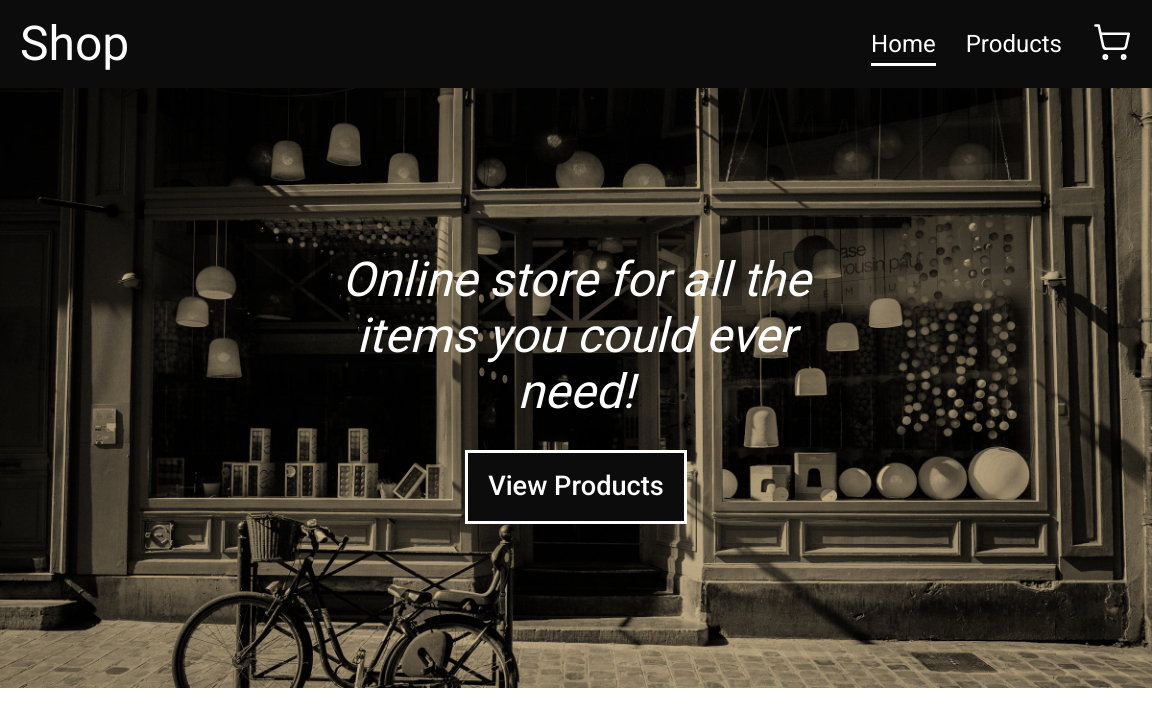
Test case: Header Component › Switches route to /cart when clicking Cart link
The width and height of the screenshot is (1152, 720).
Click the link with test id "cart-icon": {"x": 1112, "y": 56} x1=1092 y1=40 x2=1132 y2=73
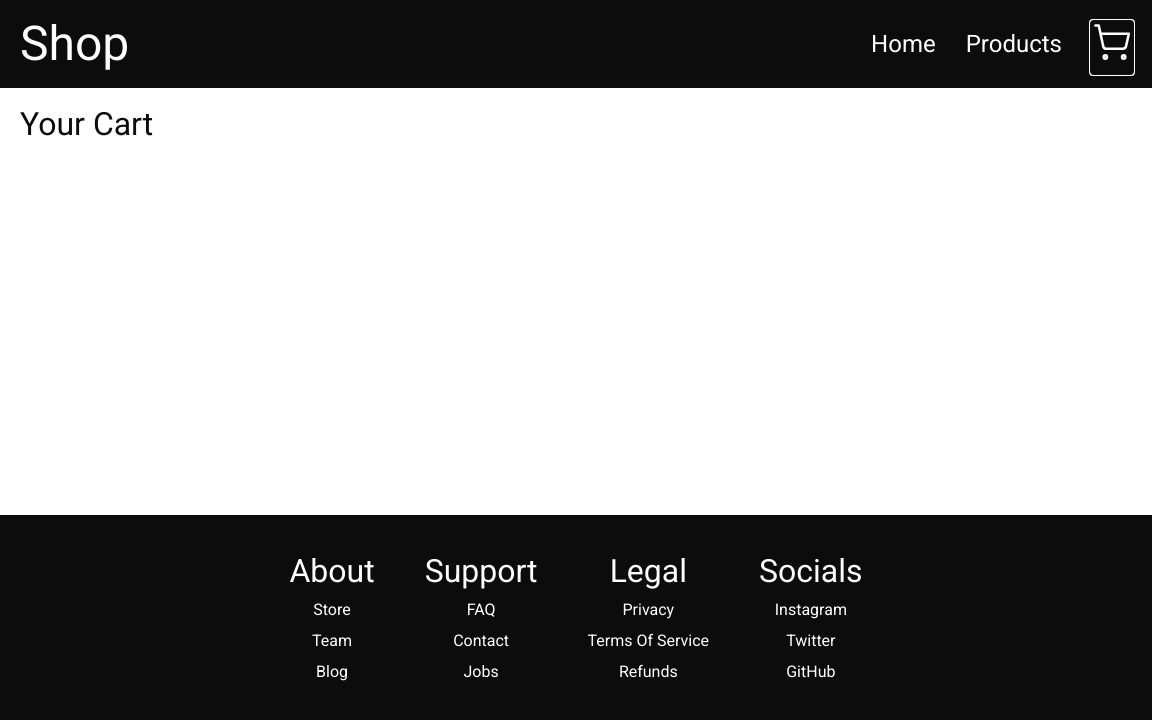
Expected: the heading "Your Cart" is shown, x1=20 y1=105 x2=153 y2=143
